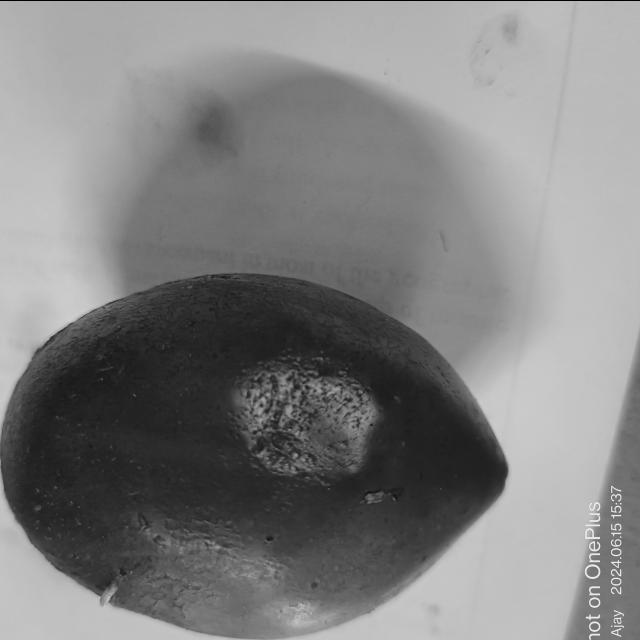Botrytis: (362, 487, 404, 507)
